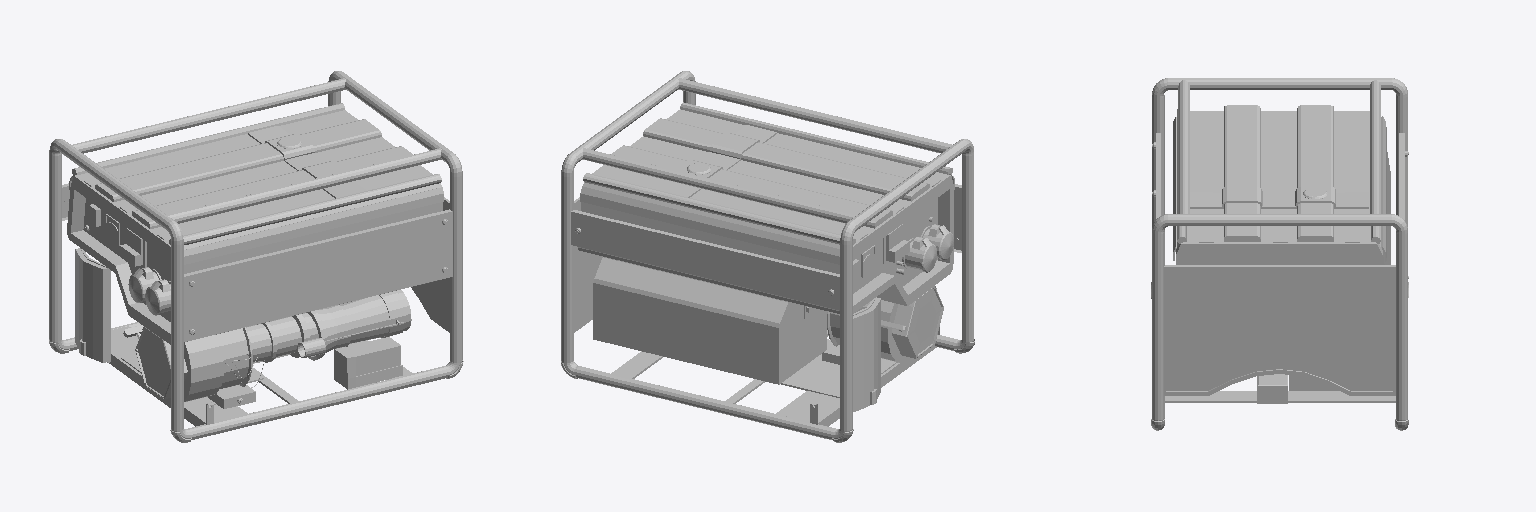
File: generator.obj
The picture shows the model from 3 angles: view 1: azimuth 30°, elevation 25°; view 2: azimuth 150°, elevation 25°; view 3: azimuth 270°, elevation 25°; orthographic projection.
Parts seen in each view (by area): view 1: defaultMaterial.051, defaultMaterial.067, defaultMaterial.056, defaultMaterial.064, defaultMaterial.023, defaultMaterial.049, defaultMaterial.044, defaultMaterial.016, defaultMaterial.047, defaultMaterial.066, defaultMaterial.027, defaultMaterial.031 (+6 smaller); view 2: defaultMaterial.051, defaultMaterial.067, defaultMaterial.030, defaultMaterial.064, defaultMaterial.020, defaultMaterial.049, defaultMaterial.066, defaultMaterial.046, defaultMaterial.031, defaultMaterial.055, defaultMaterial.047, defaultMaterial.007 (+5 smaller); view 3: defaultMaterial.031, defaultMaterial.051, defaultMaterial.067, defaultMaterial.064, defaultMaterial.045, defaultMaterial.015.
Boxes of the visible parts, x1=… form: defaultMaterial.051: x1=69, y1=103, x2=443, y2=264; defaultMaterial.067: x1=49, y1=71, x2=462, y2=439; defaultMaterial.056: x1=184, y1=209, x2=452, y2=341; defaultMaterial.064: x1=67, y1=175, x2=442, y2=344; defaultMaterial.023: x1=307, y1=290, x2=411, y2=360; defaultMaterial.049: x1=75, y1=248, x2=110, y2=362; defaultMaterial.044: x1=334, y1=337, x2=402, y2=389; defaultMaterial.016: x1=246, y1=313, x2=318, y2=362; defaultMaterial.047: x1=168, y1=335, x2=223, y2=401; defaultMaterial.066: x1=109, y1=326, x2=247, y2=426; defaultMaterial.027: x1=217, y1=327, x2=252, y2=388; defaultMaterial.031: x1=411, y1=197, x2=449, y2=332; defaultMaterial.051: x1=580, y1=102, x2=954, y2=264; defaultMaterial.067: x1=561, y1=71, x2=973, y2=439; defaultMaterial.030: x1=593, y1=257, x2=826, y2=384; defaultMaterial.064: x1=578, y1=175, x2=953, y2=314; defaultMaterial.020: x1=571, y1=210, x2=839, y2=310; defaultMaterial.049: x1=853, y1=297, x2=880, y2=411; defaultMaterial.066: x1=776, y1=344, x2=936, y2=426; defaultMaterial.046: x1=781, y1=339, x2=897, y2=397; defaultMaterial.031: x1=574, y1=197, x2=602, y2=332; defaultMaterial.055: x1=892, y1=286, x2=943, y2=358; defaultMaterial.047: x1=857, y1=300, x2=911, y2=363; defaultMaterial.007: x1=902, y1=237, x2=936, y2=272; defaultMaterial.031: x1=1164, y1=265, x2=1395, y2=395; defaultMaterial.051: x1=1173, y1=105, x2=1386, y2=261; defaultMaterial.067: x1=1152, y1=78, x2=1407, y2=420; defaultMaterial.064: x1=1176, y1=152, x2=1390, y2=264; defaultMaterial.045: x1=1165, y1=391, x2=1395, y2=402; defaultMaterial.015: x1=1257, y1=374, x2=1287, y2=403.
Size of the model in its own units: 2 by 1.44 by 1.53.